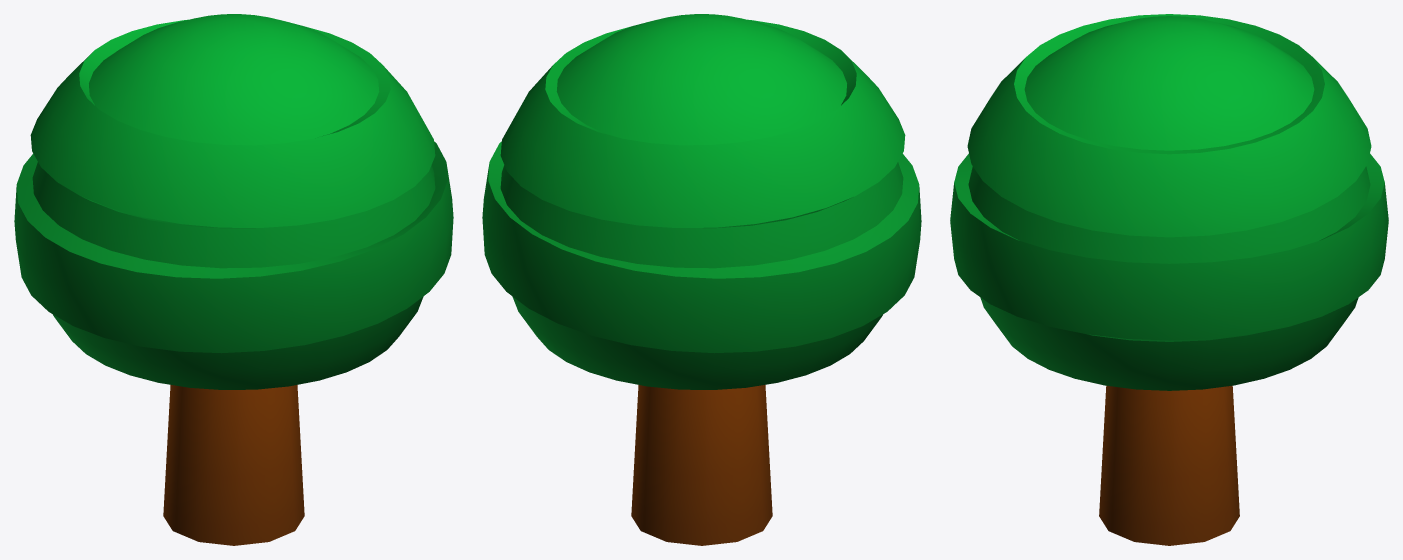
The model's file is Farm_Crop_Tree_02.fbx.
The picture shows the model from 3 angles, left to right: view 1: azimuth 30°, elevation 25°; view 2: azimuth 150°, elevation 25°; view 3: azimuth 270°, elevation 25°; orthographic projection.
Parts seen in each view (by area): view 1: Farm_Crop_Tree_02; view 2: Farm_Crop_Tree_02; view 3: Farm_Crop_Tree_02.
Part boxes in pixels (x1,y1,x2,y2): Farm_Crop_Tree_02: [14, 14, 453, 545]; Farm_Crop_Tree_02: [482, 14, 921, 545]; Farm_Crop_Tree_02: [950, 14, 1388, 545].
Size of the model in its own units: 199 by 241 by 199.
